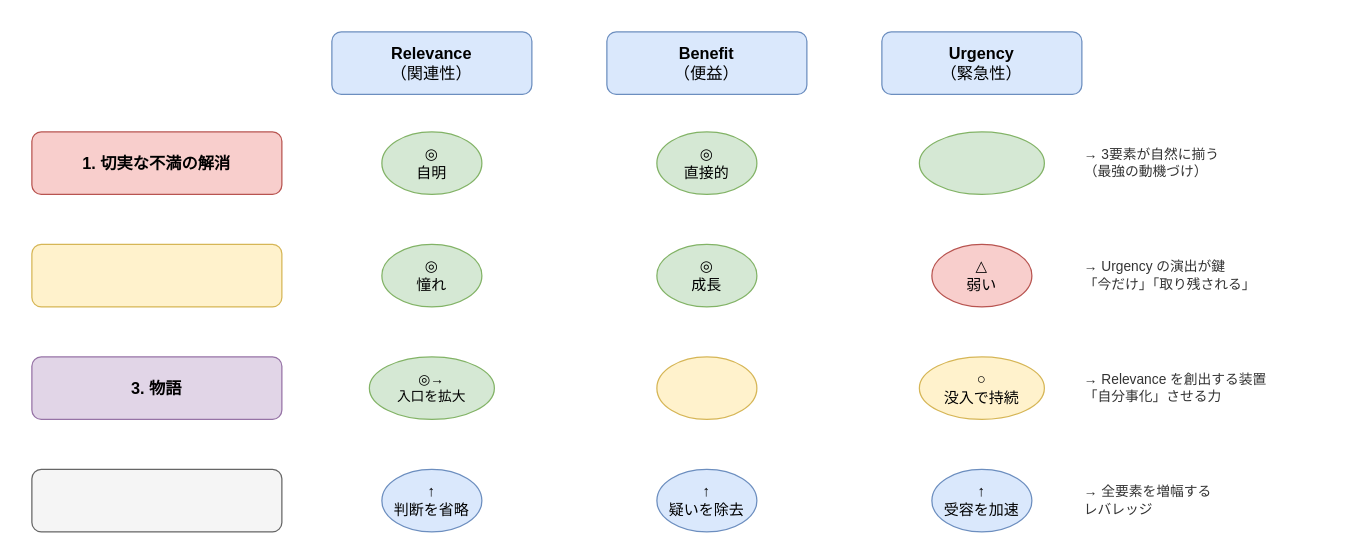
Some shapes in this 1353 by 554 pixel diagram are drawn without their labels. The centre of each missing label's shape, as x and y in pixels:
"2. 自己実現" goes at point (156, 275).
"4. 信頼" goes at point (156, 500).
"○ 間接的" goes at point (706, 387).
"◎ 痛みが持続" goes at point (981, 162).
